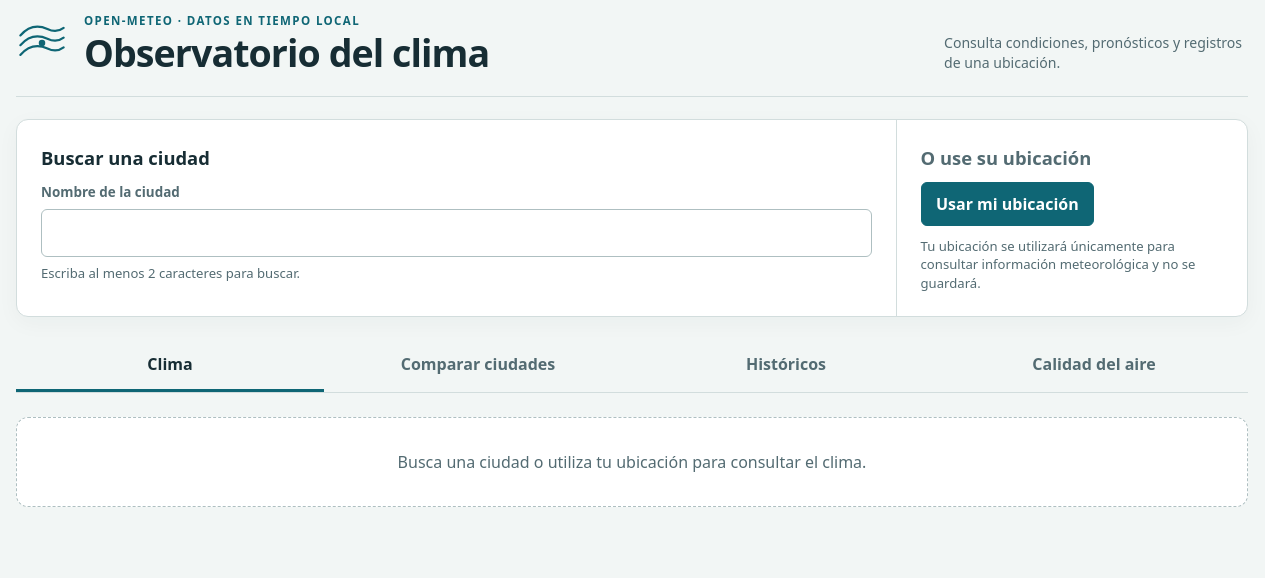
Test case: RF-03: geolocalización del navegador › maneja posición no disponible y mantiene accesible la búsqueda manual
Click the button "Usar mi ubicación" at (1007, 204), box [921,182,1094,226]
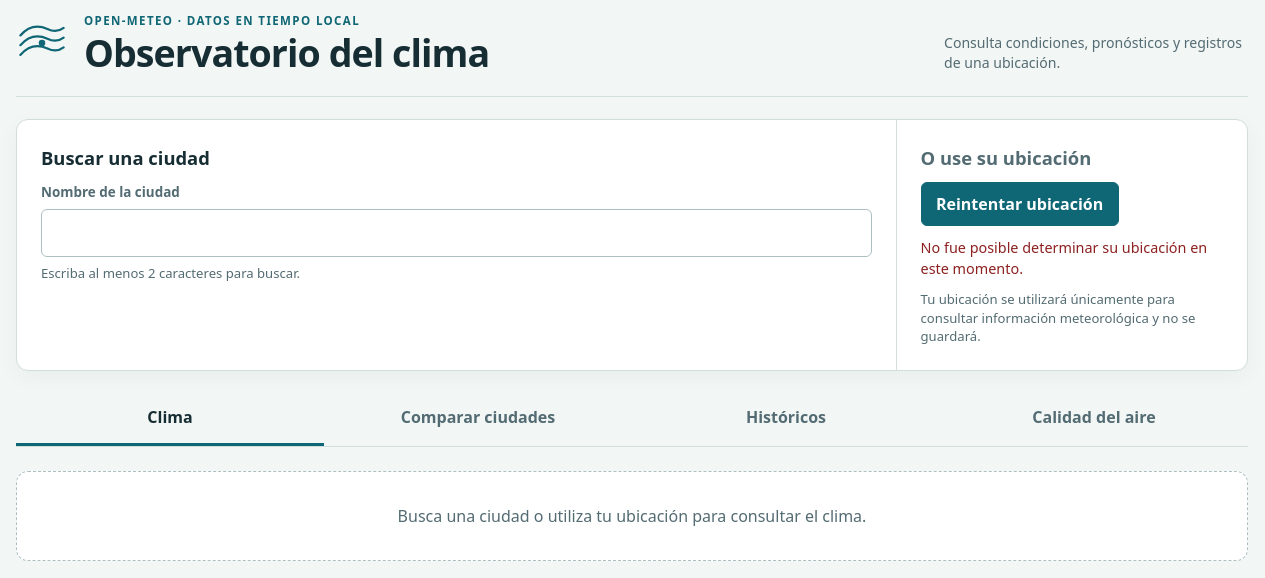
Expected: the dropdown labelled "Nombre de la ciudad" is shown, [41,209,872,257]
Expected: the message reads "No fue posible determinar su ubicación en este momento.", [921,238,1207,278]
Expected: the button "Reintentar ubicación" is shown, [921,182,1119,226]
